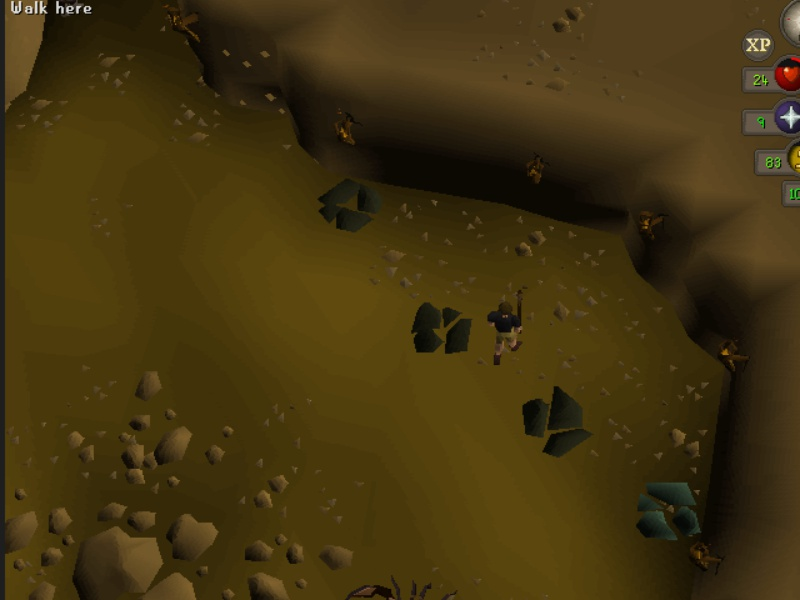adamant: (635, 477, 705, 544)
coal: (517, 382, 598, 465), (312, 173, 386, 237), (409, 294, 477, 362)
